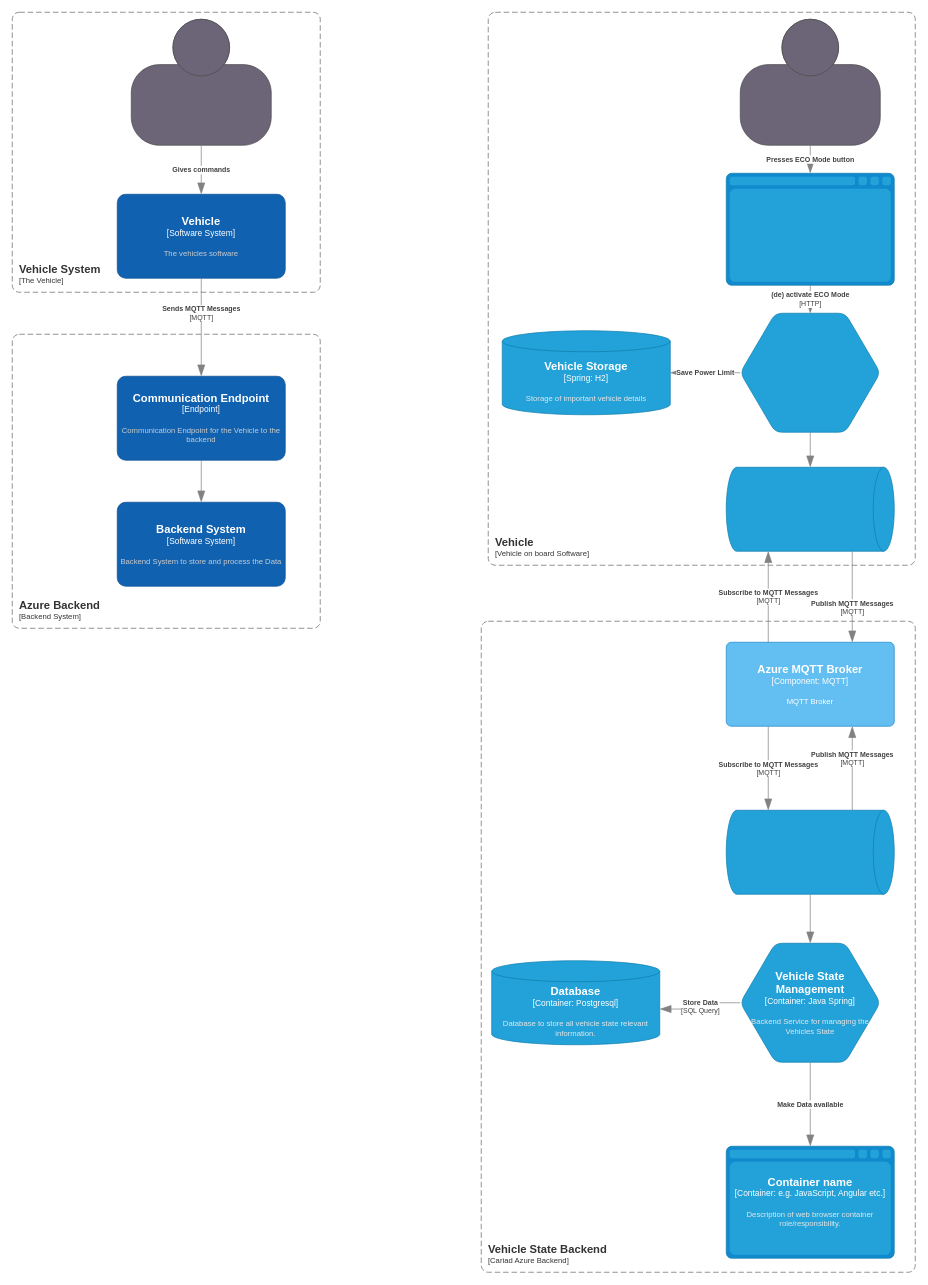
The diagram is 928 pixels wide and 1285 high, and some of its shapes have lost their labels. The centre of each missing label's shape, as x and y in pixels:
Driver [Person] The Driver of the Vehicle: pixel 201 82
External person name [Person] Description of external person.: pixel 810 82
Infotaiment [Mocked: ] Interface for the driver.: pixel 810 229
MQTT Client [Spring Service: MQTT] MQTT Endpoint of the Backend: pixel 810 852
MQTT Client [Spring Service: MQTT] MQTT Endpoint of the Jar: pixel 810 509
Power Management [Container: Spring] The Power Management of the car: pixel 810 372
